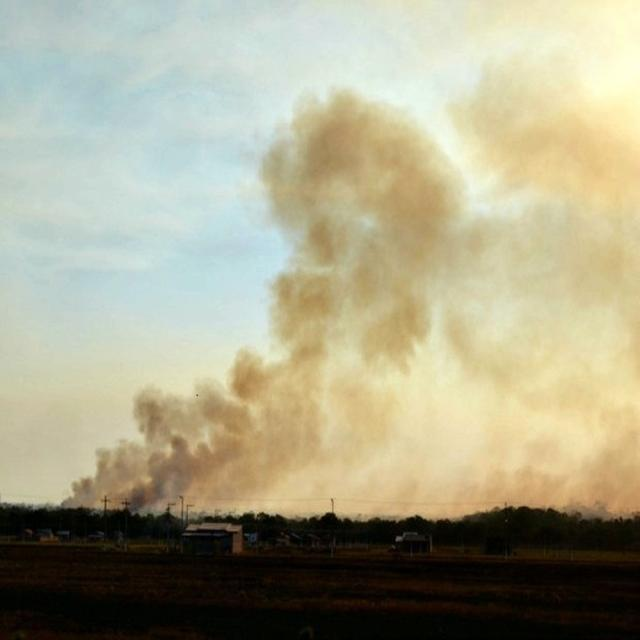Smoke: (68, 52, 450, 520)
